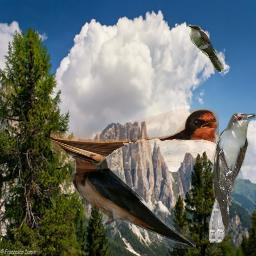Cuckoo: (207, 111, 256, 243), (187, 24, 224, 72)
Swallow: (68, 147, 196, 249), (50, 108, 219, 169)
